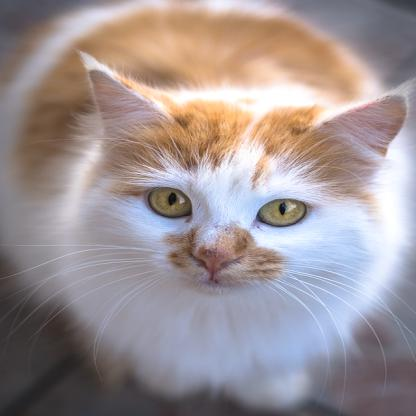cat: (8, 6, 414, 414)
